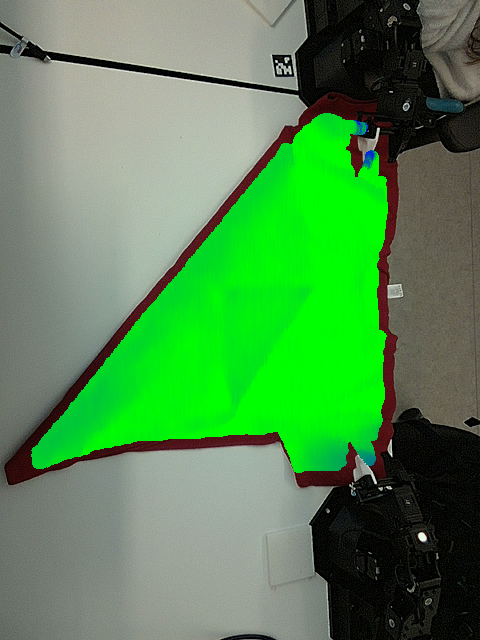V: (213, 269, 268, 323)
